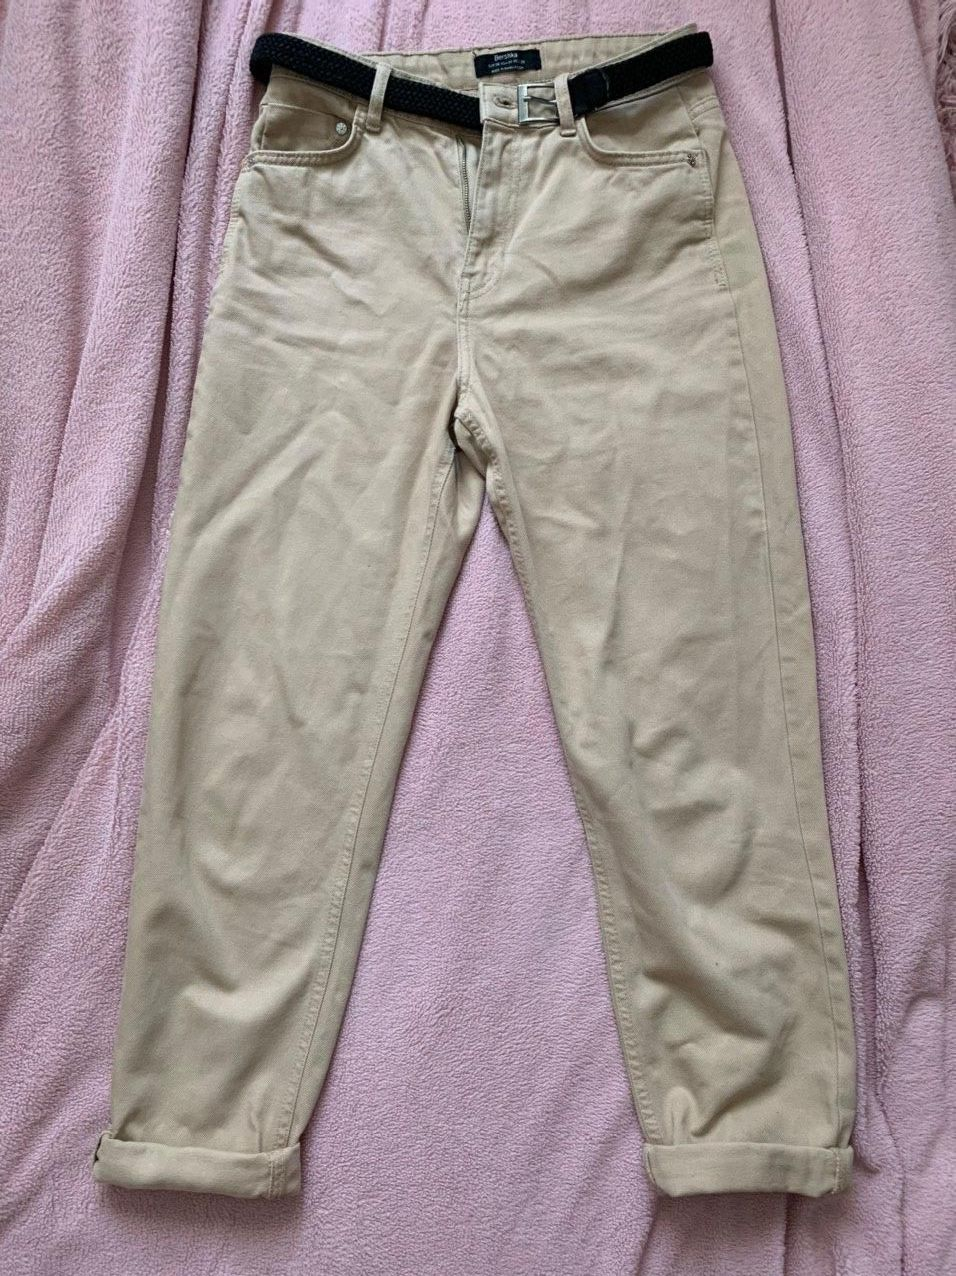clothes: (73, 24, 874, 1200)
